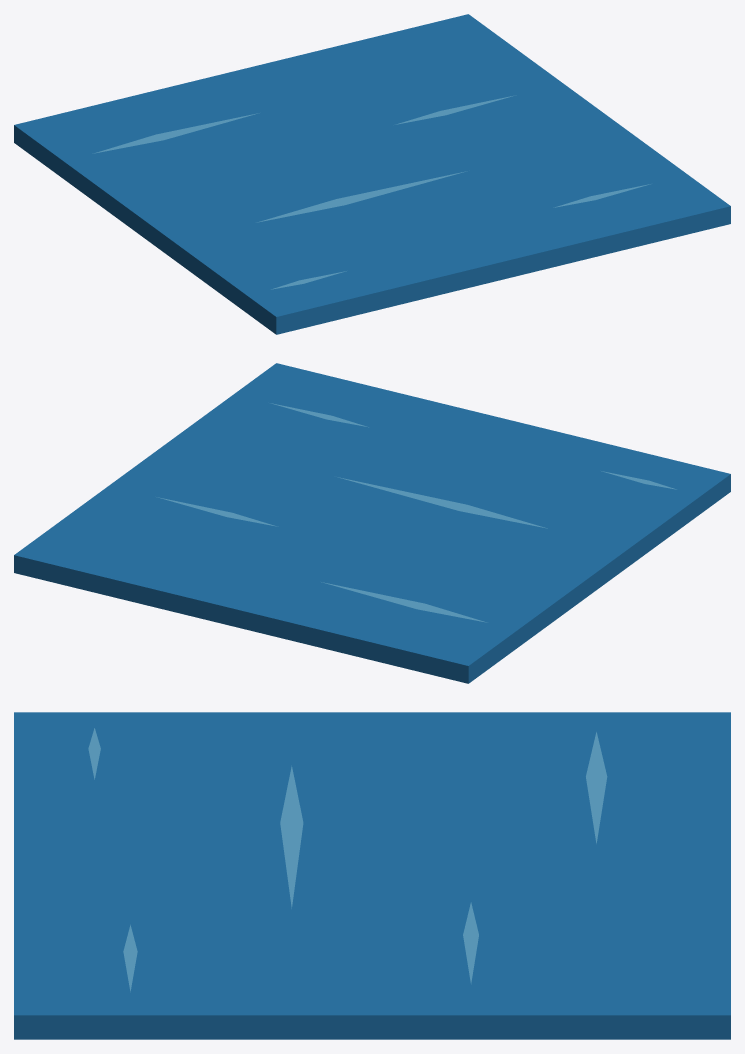
The model's file is water_tile.glb.
3 renders of one model, top to bottom at view 1: azimuth 30°, elevation 25°; view 2: azimuth 150°, elevation 25°; view 3: azimuth 270°, elevation 25°, orthographic. The views are drawn at different scales.
Parts seen in each view (by area): view 1: water; view 2: water; view 3: water.
Boxes of the visible parts, x1,y1,x2,y2 form: water: [14, 14, 730, 334]; water: [14, 363, 730, 683]; water: [14, 712, 730, 1039].
Bounding box in the file's own units: 4 × 0.15 × 4.
